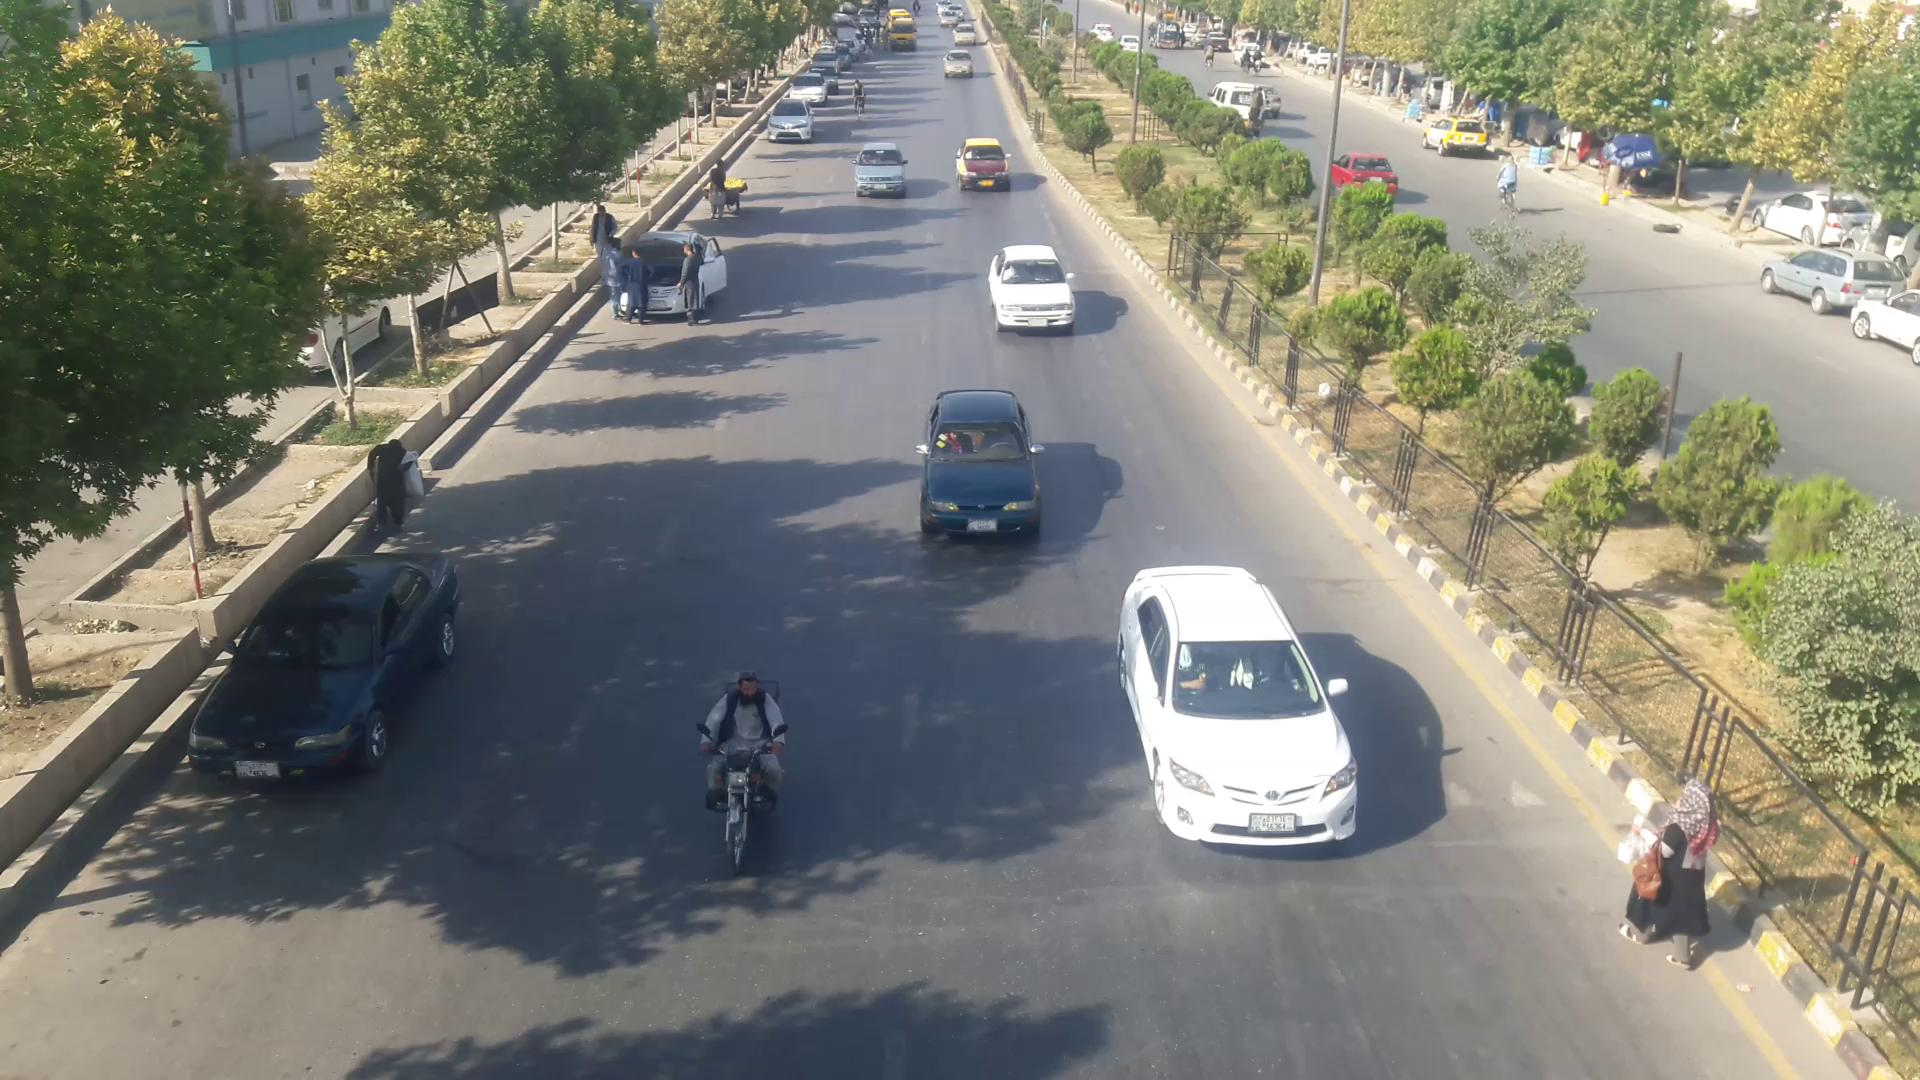bike: (694, 673, 804, 869), (1491, 156, 1523, 214)
car: (1113, 550, 1370, 853), (187, 555, 468, 777), (922, 385, 1050, 541), (618, 229, 728, 319), (1762, 248, 1899, 311), (989, 247, 1077, 330), (1755, 189, 1873, 248), (1849, 293, 1917, 367), (856, 145, 914, 196), (1419, 116, 1490, 157), (959, 137, 1013, 190), (1327, 153, 1396, 189), (766, 100, 814, 138), (943, 49, 972, 78), (1150, 28, 1185, 49)
